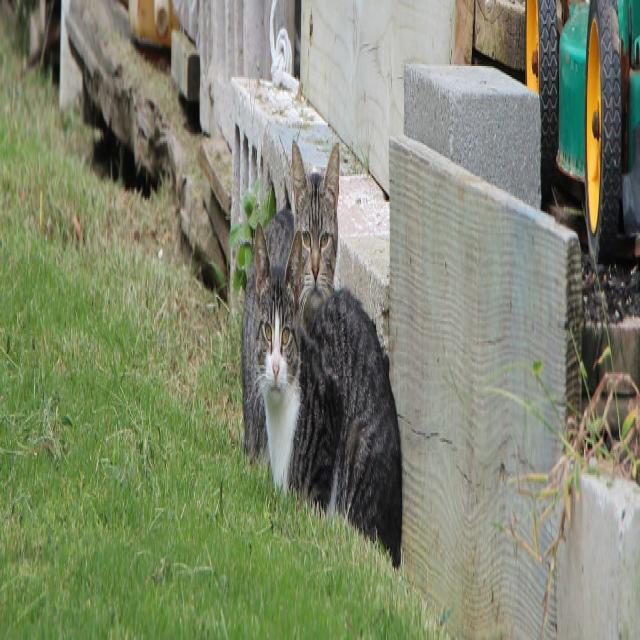cat: (241, 211, 401, 567), (265, 142, 340, 327), (241, 258, 268, 460)
